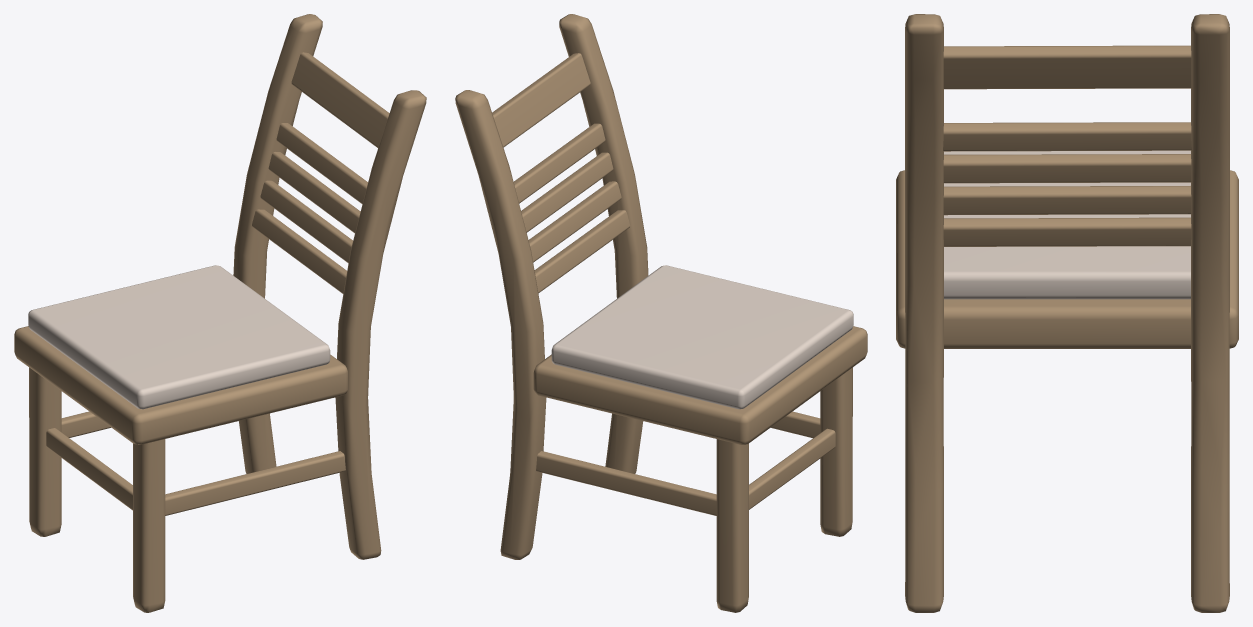
File: chair_01_cornsilk.fbx
The picture shows the model from 3 angles, left to right: view 1: azimuth 30°, elevation 25°; view 2: azimuth 150°, elevation 25°; view 3: azimuth 270°, elevation 25°; orthographic projection. The views are drawn at different scales.
Visible parts, largest first — view 1: chair_01_cornsilk; view 2: chair_01_cornsilk; view 3: chair_01_cornsilk.
Part boxes in pixels (left/top/right/bottom): chair_01_cornsilk: left=14, top=14, right=426, bottom=612; chair_01_cornsilk: left=455, top=14, right=867, bottom=612; chair_01_cornsilk: left=896, top=14, right=1238, bottom=612.
Size of the model in its own units: 73.08 by 106 by 53.
Materials: 2 (2 with a texture image).
